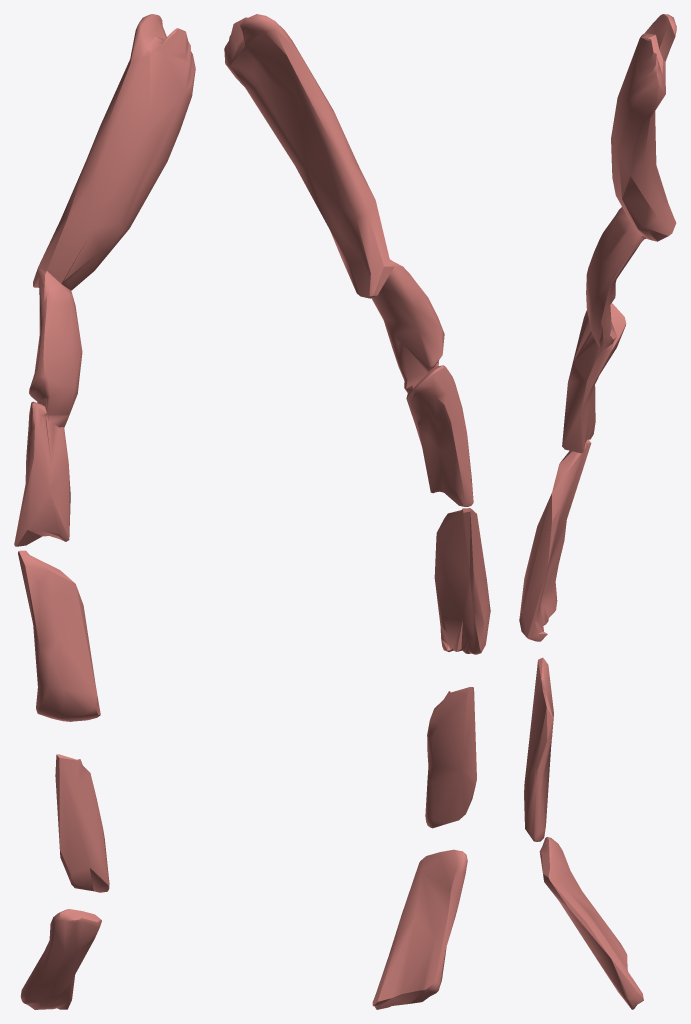
Rendered from fma71442_fj1549m.glb.
3 views of the same model, side by side, from view 1: azimuth 30°, elevation 25°; view 2: azimuth 150°, elevation 25°; view 3: azimuth 270°, elevation 25° (orthographic). The views are drawn at different scales.
Parts seen in each view (by area): view 1: FMA71442_FJ1549M; view 2: FMA71442_FJ1549M; view 3: FMA71442_FJ1549M.
Boxes of the visible parts, left/top/right/bottom form: FMA71442_FJ1549M: left=14, top=14, right=195, bottom=1009; FMA71442_FJ1549M: left=224, top=14, right=490, bottom=1009; FMA71442_FJ1549M: left=519, top=14, right=676, bottom=1009.
Bounding box in the file's own units: 0.0221 × 0.096 × 0.0131.
